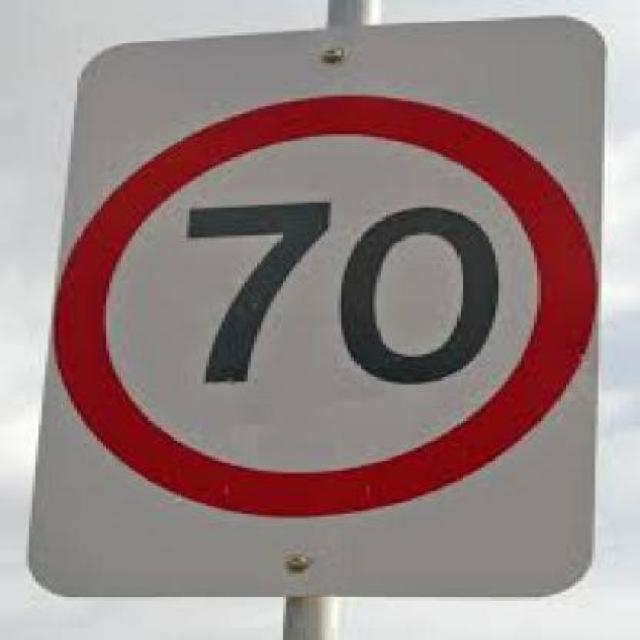forb_speed_over_70: (65, 99, 591, 513)
